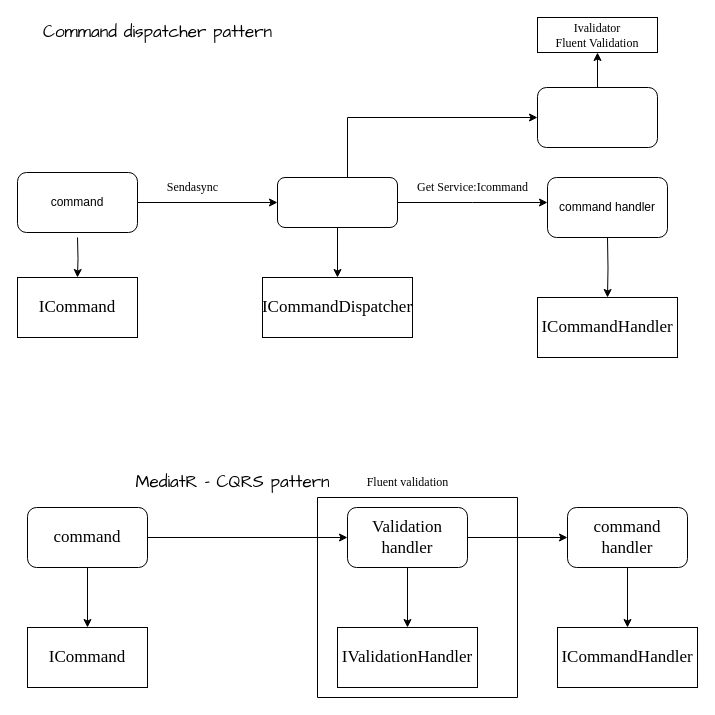
This 715x715 diagram has some shape labels left out. Each missing label, with the centre of its shape:
"command dispatcher" goes at pixel 337 202.
"ValidatorHandler" goes at pixel 597 117.
